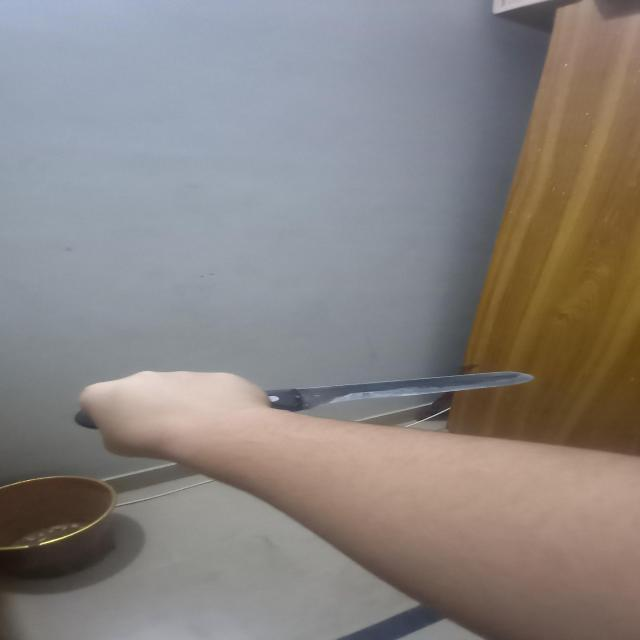knife: (49, 369, 548, 426)
